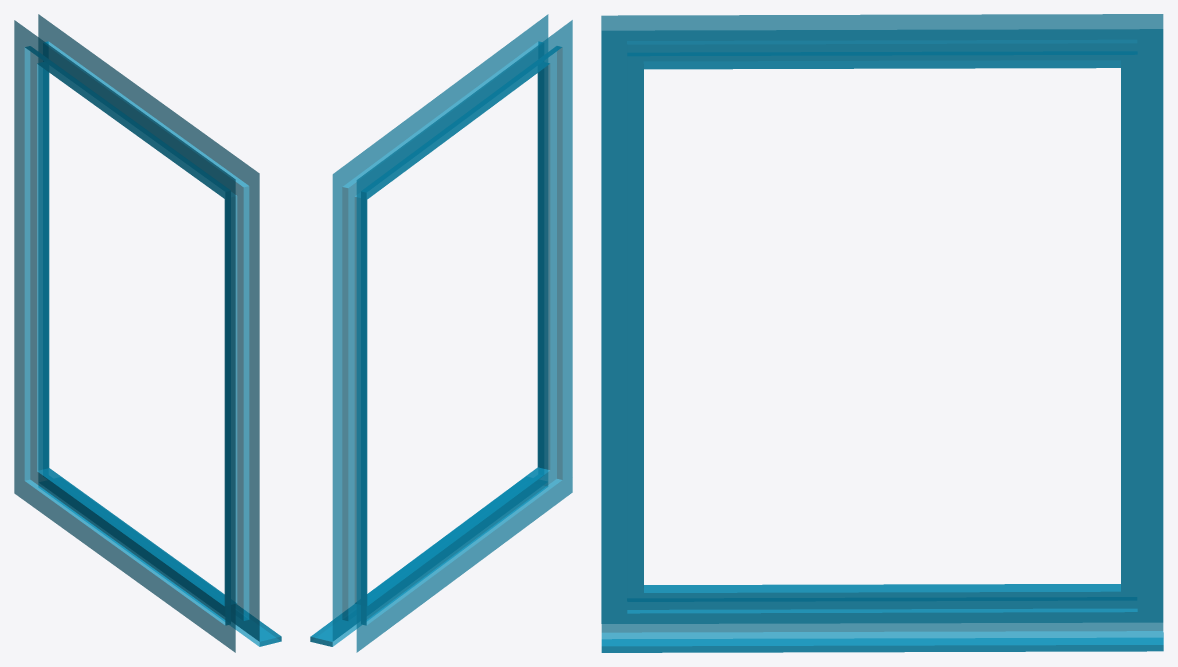
The model's file is window.obj.
3 renders of one model, left to right at view 1: azimuth 30°, elevation 25°; view 2: azimuth 150°, elevation 25°; view 3: azimuth 270°, elevation 25°, orthographic. The views are drawn at different scales.
Visible parts, largest first — view 1: Plane.005_Plane.003; view 2: Plane.005_Plane.003; view 3: Plane.005_Plane.003.
Part boxes in pixels (box(x1,y1,x2,y2)): Plane.005_Plane.003: box(14, 14, 281, 652); Plane.005_Plane.003: box(310, 14, 572, 652); Plane.005_Plane.003: box(601, 14, 1163, 652).
Size of what is drawn, in the model's own units: 0.1904 by 1.77 by 1.49.
